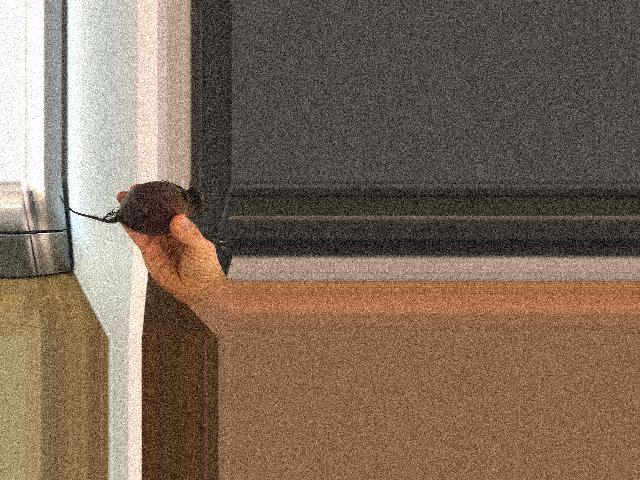beet: (59, 180, 208, 234)
